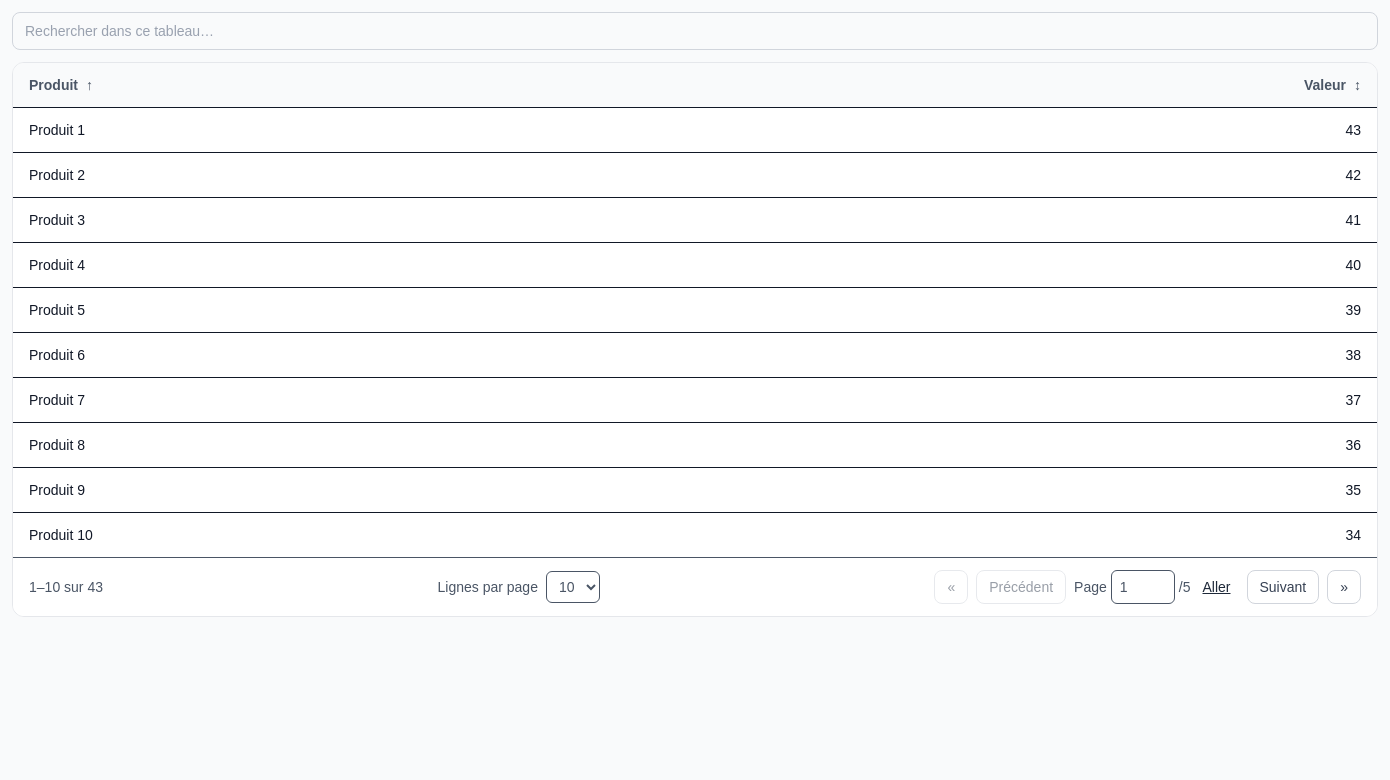
it: bounded tables › sorts numbers across the full result set and searches before pagination
The width and height of the screenshot is (1390, 780).
Click the button with aria-label "Trier par Valeur" at (1332, 85), box [1304,75,1361,95]
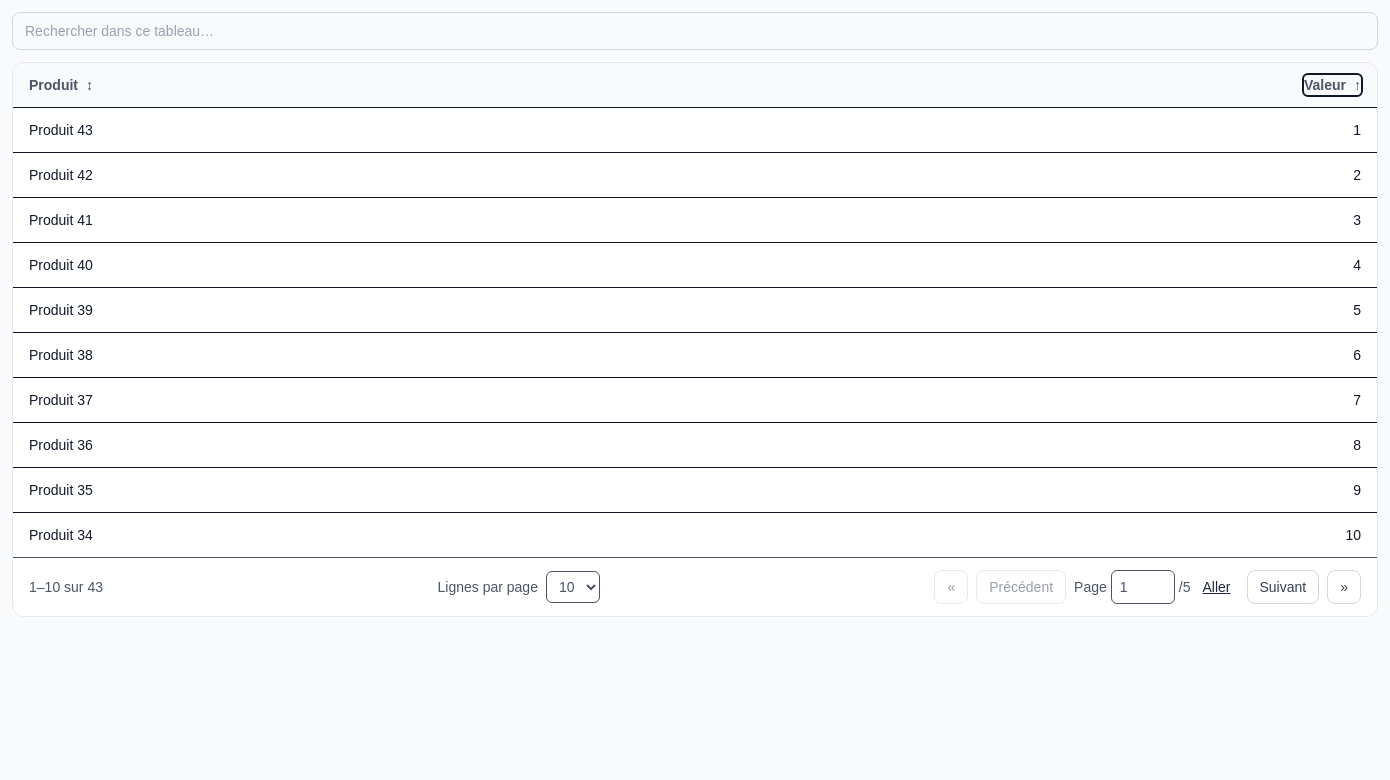
Result: the text "Produit 43" is shown at [13,108,721,152]
Click the button with aria-label "Trier par Valeur" at (1332, 85), box [1304,75,1361,95]
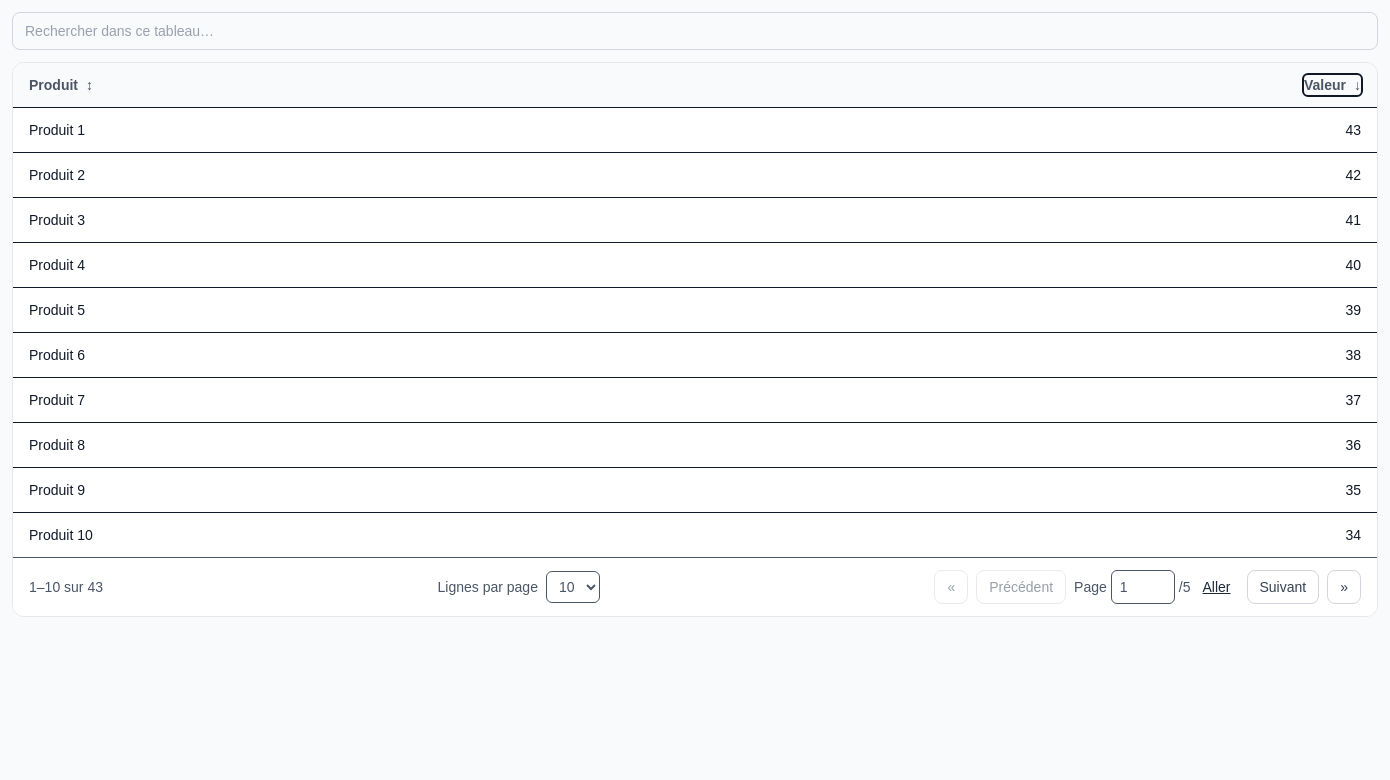
Result: the text "Produit 1" is shown at [13,108,721,152]
Click the button named "Dernière page" at (1344, 587), box [1327,570,1361,604]
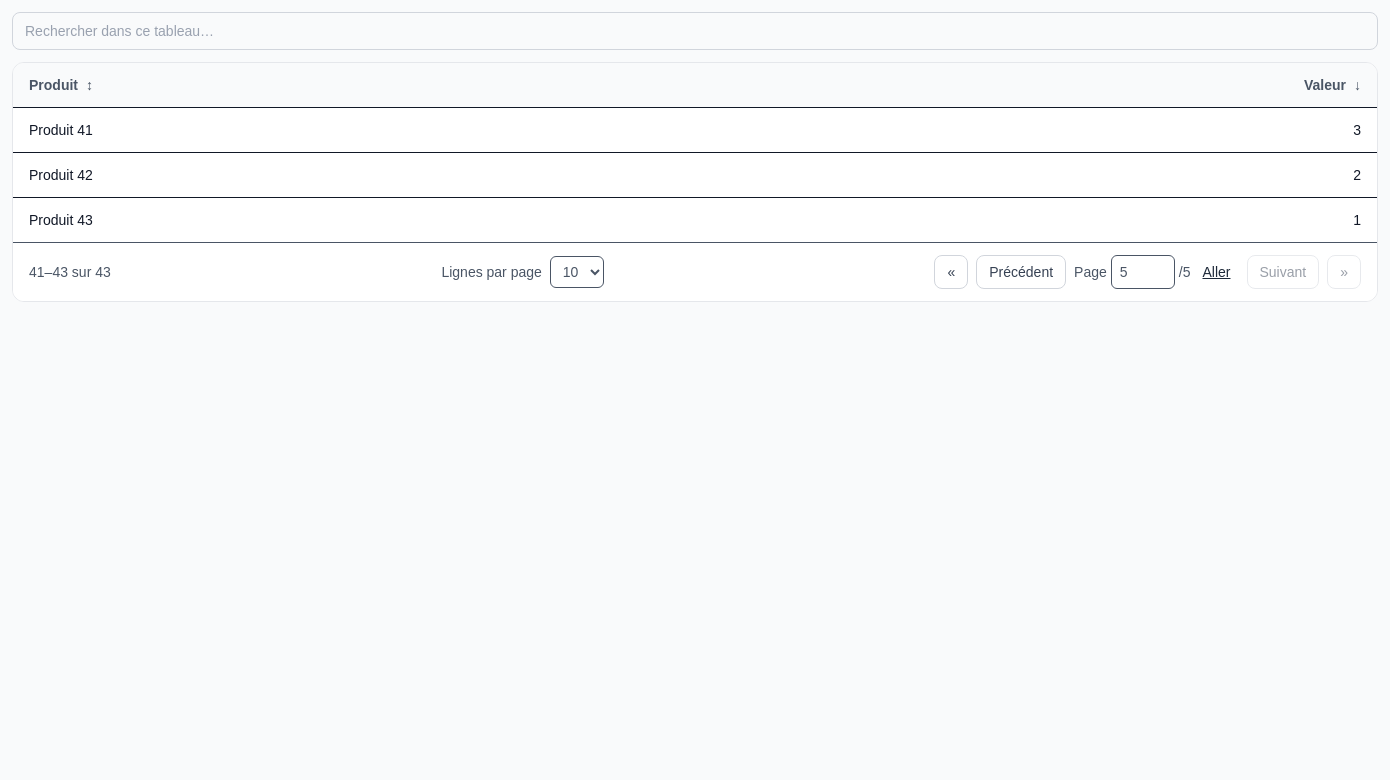
Type "Produit 43" into the field at (695, 31), box [12,12,1378,50]
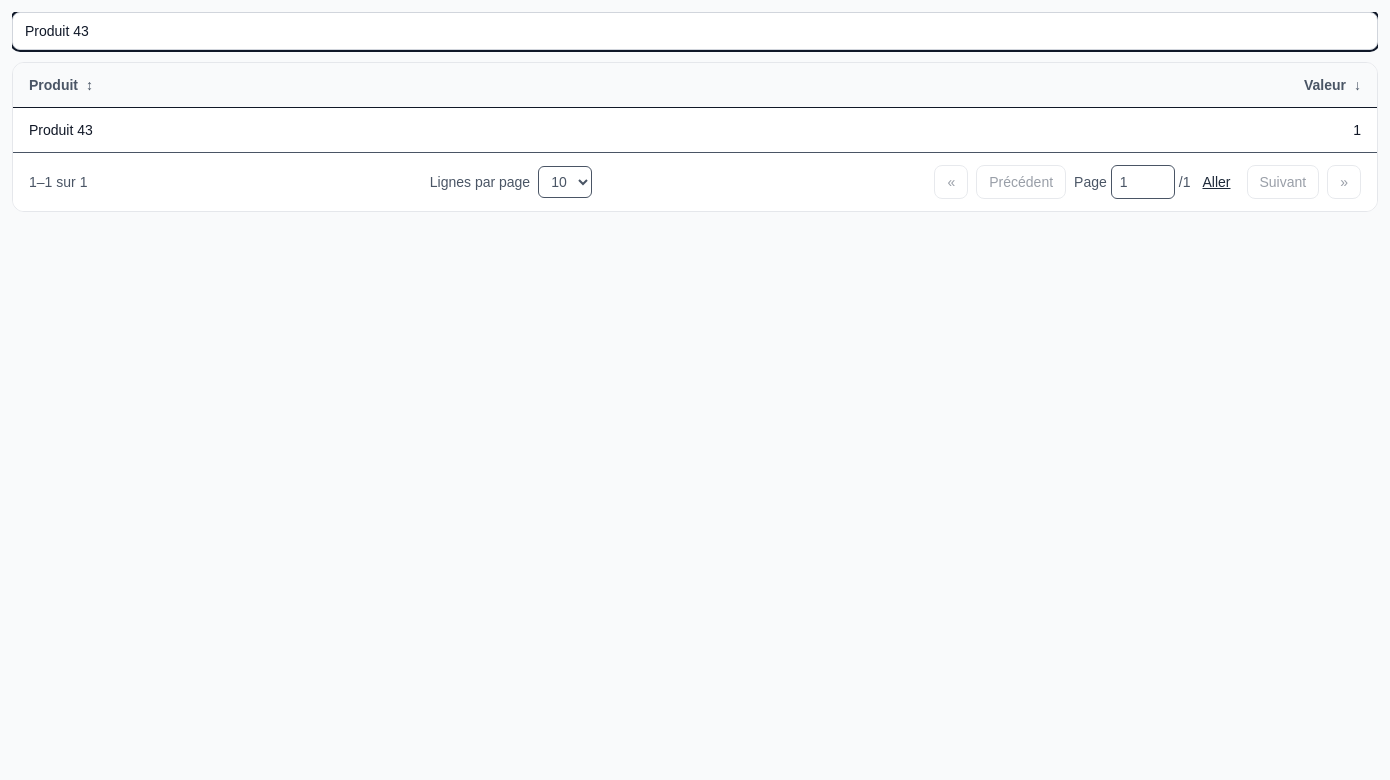
Expected: the number of rows is 2, [13,63,1377,107]; [13,108,1377,152]
Result: the text "1–1 sur 1" is shown at [29,172,87,192]
